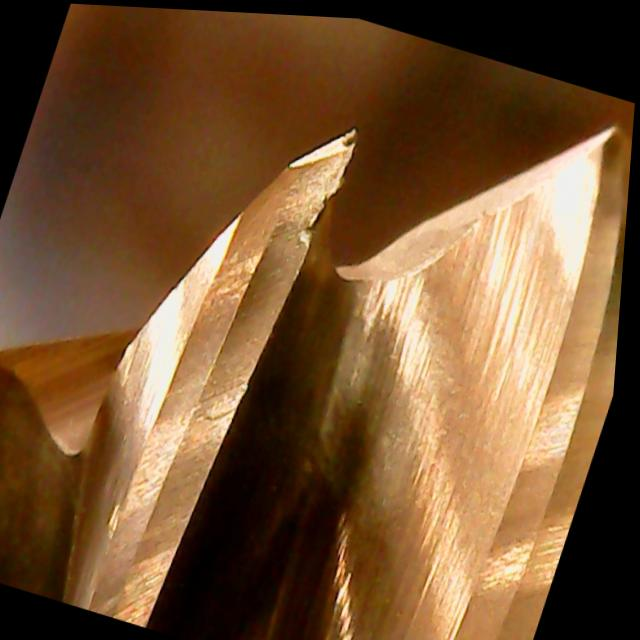Tool-wear-class-1: (162, 93, 373, 425)
